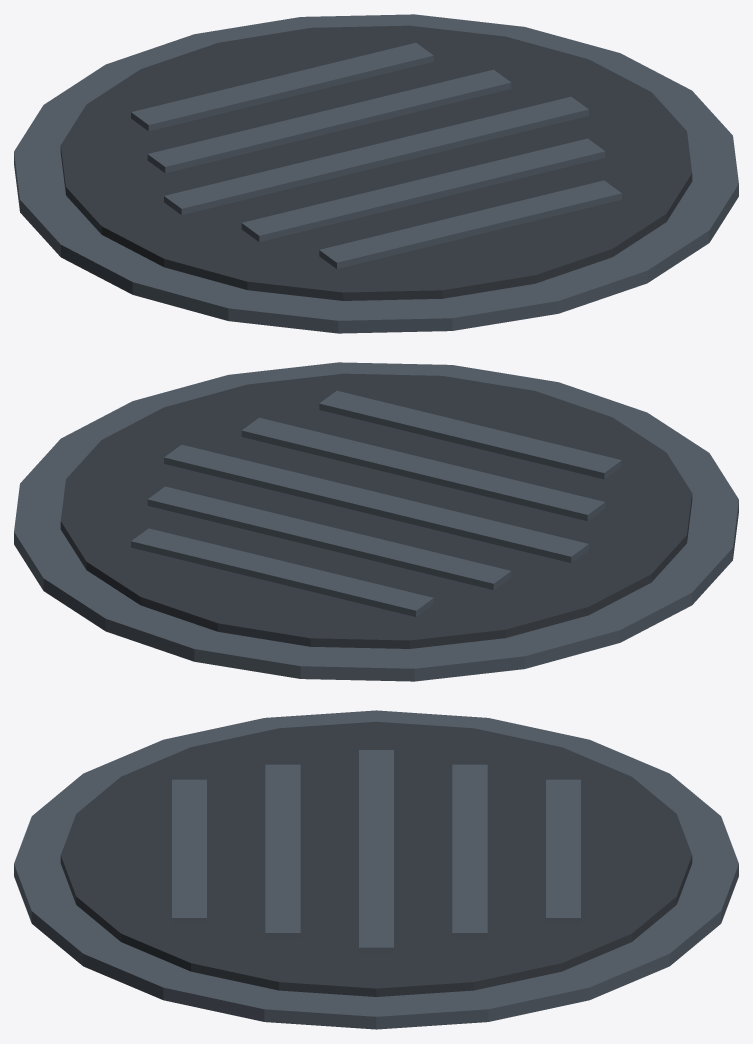
File: manhole.glb
3 views of the same model, one above another, from view 1: azimuth 30°, elevation 25°; view 2: azimuth 150°, elevation 25°; view 3: azimuth 270°, elevation 25° (orthographic).
Visible parts, largest first — view 1: ManholeCover; view 2: ManholeCover; view 3: ManholeCover.
Part boxes in pixels (left/top/right/bottom): ManholeCover: left=14, top=14, right=738, bottom=333; ManholeCover: left=14, top=362, right=738, bottom=681; ManholeCover: left=14, top=710, right=738, bottom=1029.
Size of the model in its own units: 0.62 by 0.026 by 0.62.
Materials: 1 (1 with a texture image).
